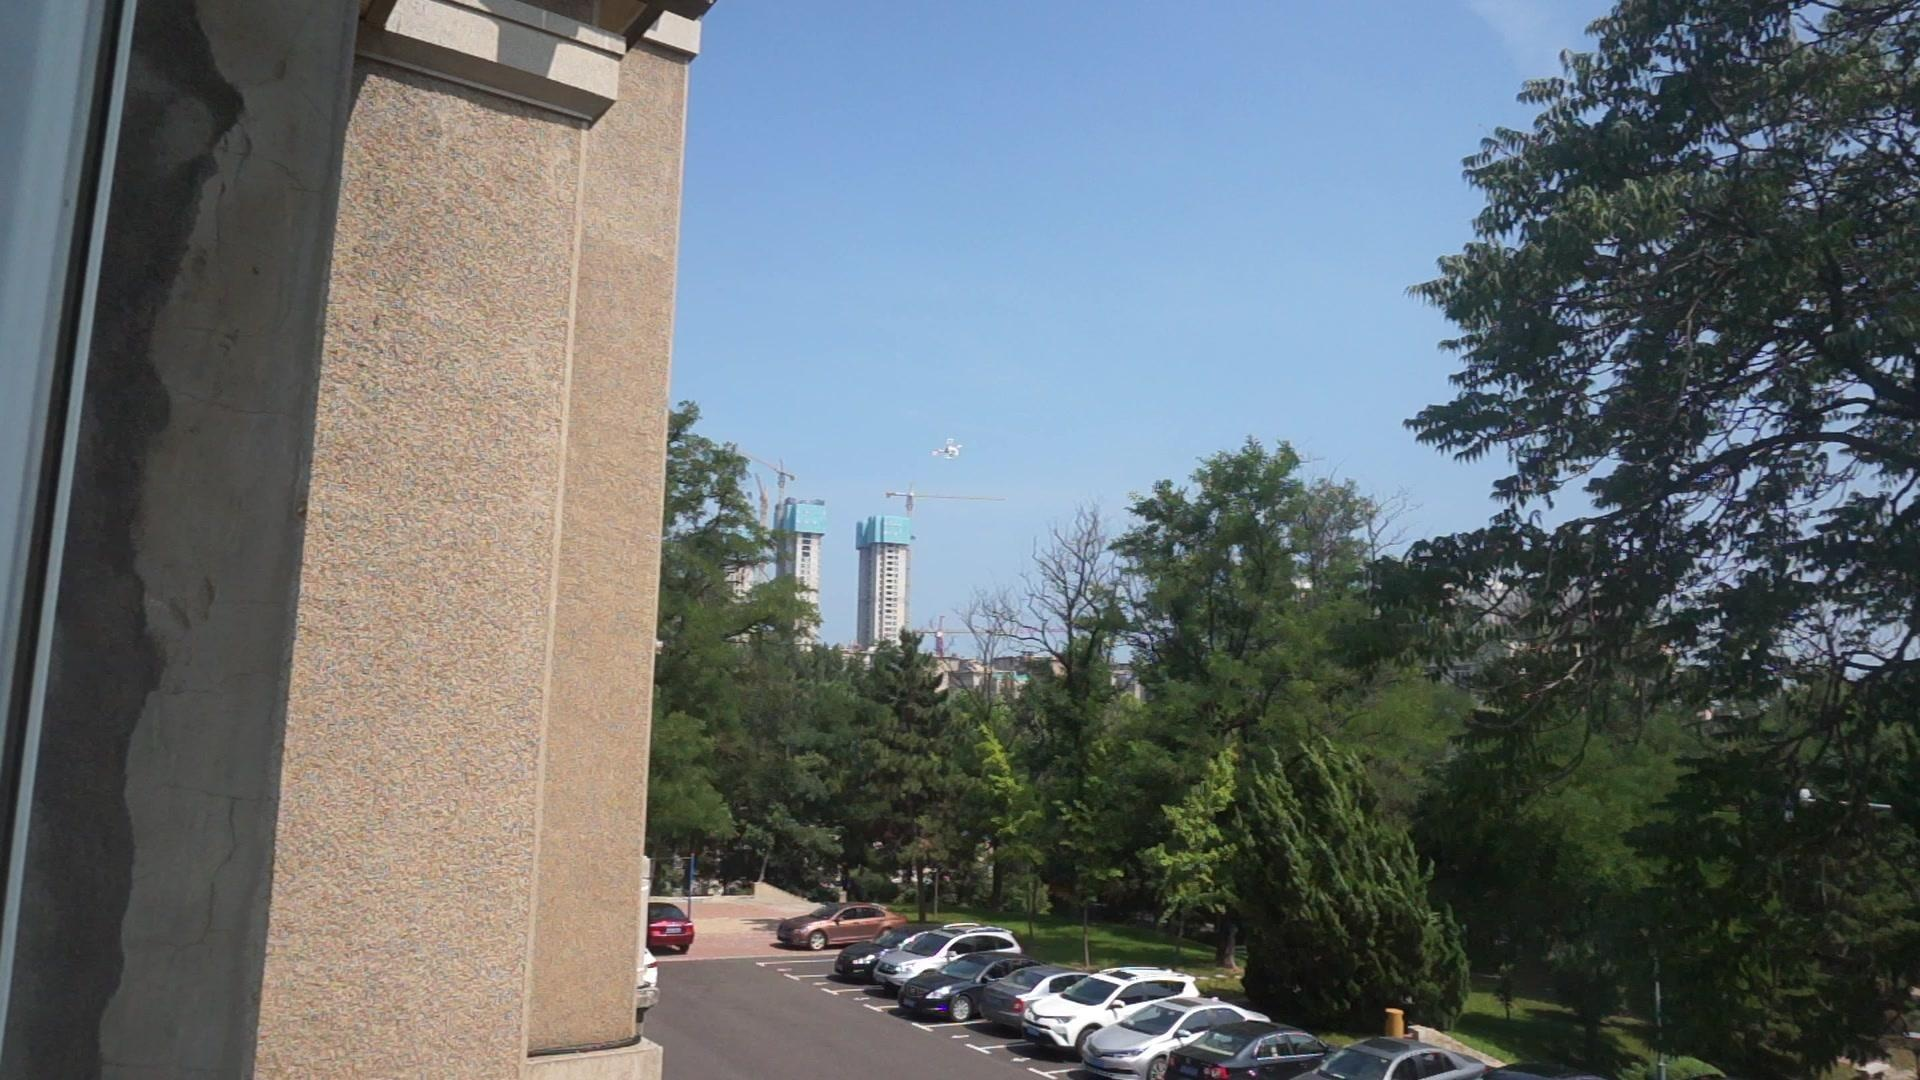UAV: (934, 438, 963, 460)
